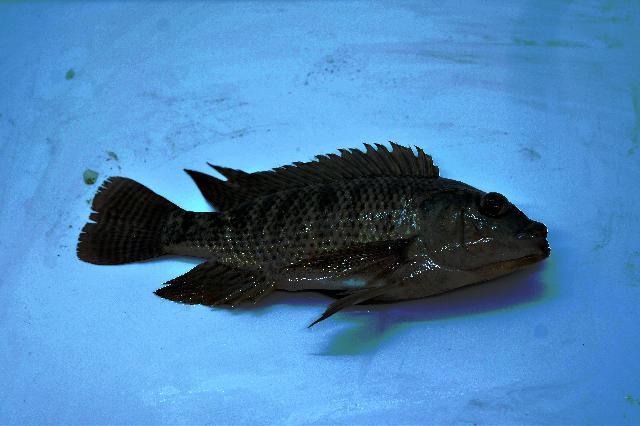Columnaris Disease: (78, 142, 550, 323)
